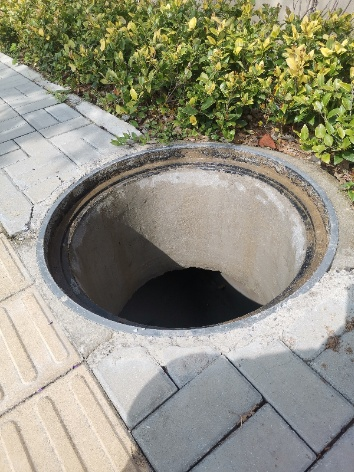lose: (35, 143, 339, 338)
